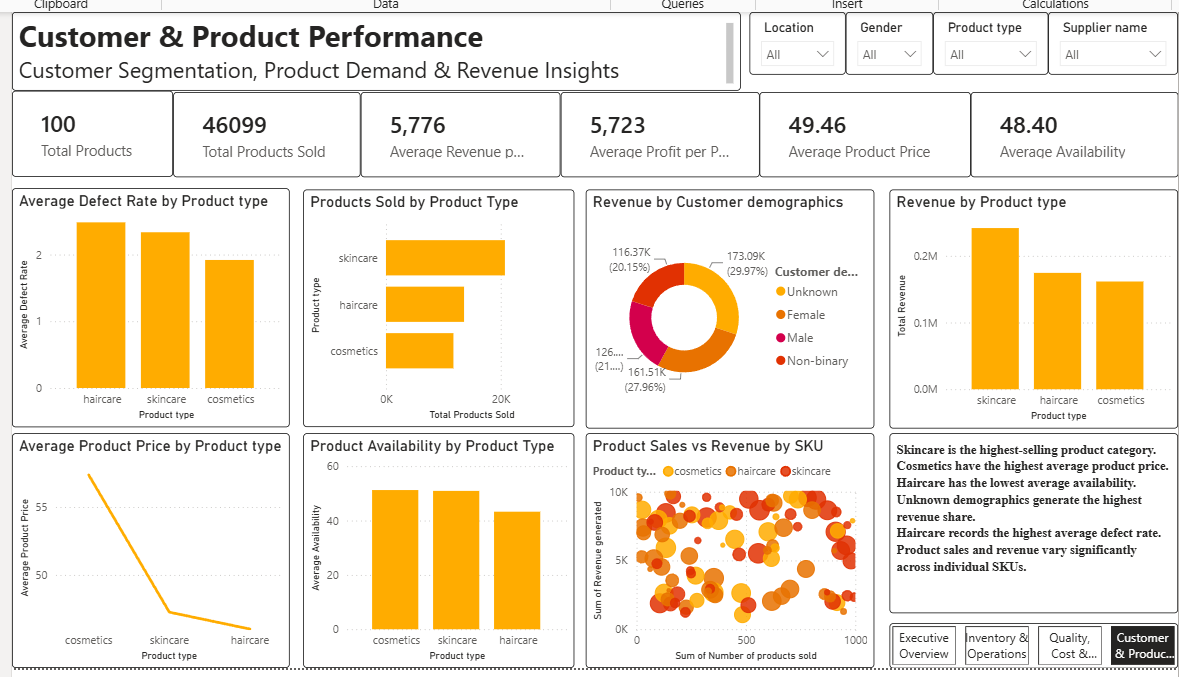

Layout of this report page (visuals, bound fields, positions):
{"tool":"powerbi","page":{"name":"Customer & Product Insights","canvas":[1280,720],"ordinal":3},"visuals":[{"type":"cardVisual","fields":{"Data":["Fact_supplychain.Total Products"]},"box":[0,86.4,177,94.7],"z":0},{"type":"cardVisual","fields":{"Data":["Fact_supplychain.Total Products Sold"]},"box":[177,87.8,205.8,93.3],"z":1000},{"type":"cardVisual","fields":{"Data":["Fact_supplychain.Average Revenue per Product"]},"box":[382.8,87.8,219.6,93.3],"z":2000},{"type":"cardVisual","fields":{"Data":["Fact_supplychain.Average Profit per Product"]},"box":[602.4,87.8,218.2,93.3],"z":3000},{"type":"cardVisual","fields":{"Data":["Fact_supplychain.Average Product Price"]},"box":[820.6,87.8,231.9,93.3],"z":4000},{"type":"cardVisual","fields":{"Data":["Fact_supplychain.Average Availability"]},"box":[1052.5,87.8,227.8,93.3],"z":5000},{"type":"slicer","fields":{"Values":["Fact_supplychain.Supplier name"]},"box":[1137.6,0,142.7,68.6],"z":6000},{"type":"slicer","fields":{"Values":["Fact_supplychain.Product type"]},"box":[1011.3,0,126.2,68.6],"z":7000},{"type":"slicer","fields":{"Values":["Fact_supplychain.Customer demographics"]},"box":[915.3,0,96.1,68.6],"z":8000},{"type":"slicer","fields":{"Values":["Fact_supplychain.Location"]},"box":[809.6,0,105.7,68.6],"z":9000},{"type":"clusteredColumnChart","fields":{"Category":["Fact_supplychain.Product type"],"Y":["Fact_supplychain.Average Defect Rate"]},"box":[0,193.5,304.6,262.1],"z":10000},{"type":"lineChart","fields":{"Category":["Fact_supplychain.Product type"],"Y":["Fact_supplychain.Average Product Price"]},"box":[0,462.4,304.6,258],"z":11000},{"type":"clusteredBarChart","title":"Products Sold by Product Type","fields":{"Category":["Fact_supplychain.Product type"],"Y":["Fact_supplychain.Total Products Sold"]},"box":[319.7,194.9,297.8,260.7],"z":12000},{"type":"clusteredColumnChart","title":"Product Availability by Product Type","fields":{"Category":["Fact_supplychain.Product type"],"Y":["Fact_supplychain.Average Availability"]},"box":[319.7,462.4,297.8,258],"z":13000},{"type":"donutChart","title":"Revenue by Customer demographics","fields":{"Category":["Fact_supplychain.Customer demographics"],"Y":["Fact_supplychain.Total Revenue"]},"box":[629.8,194.9,317,262.1],"z":14000},{"type":"scatterChart","title":"Product Sales vs Revenue by SKU","fields":{"Series":["Fact_supplychain.Product type"],"Category":["Fact_supplychain.SKU"],"X":["Sum(Fact_supplychain.Number of products sold)"],"Y":["Sum(Fact_supplychain.Revenue generated)"],"Size":["Sum(Fact_supplychain.Price)"]},"box":[629.8,462.4,317,258],"z":15000},{"type":"pageNavigator","box":[963.3,671,317,49.4],"z":16000},{"type":"textbox","box":[963.3,462.4,317,197.6],"z":16001},{"type":"textbox","box":[0,0,800,86.4],"z":16002},{"type":"clusteredColumnChart","title":"Revenue by Product type","fields":{"Category":["Fact_supplychain.Product type"],"Y":["Fact_supplychain.Total Revenue"]},"box":[963.3,194.9,317,262.1],"z":16003}]}

Visuals, with their boxes on the page's 1280x720 design canvas (x1, y1, x2, y2). These are canvas units, not pixel positions in the 1179x677 screenshot, which may show the page scaled, cropped or inside an application window:
cardVisual - Fact_supplychain.Total Products: 0, 86, 177, 181
cardVisual - Fact_supplychain.Total Products Sold: 177, 88, 383, 181
cardVisual - Fact_supplychain.Average Revenue per Product: 383, 88, 602, 181
cardVisual - Fact_supplychain.Average Profit per Product: 602, 88, 821, 181
cardVisual - Fact_supplychain.Average Product Price: 821, 88, 1052, 181
cardVisual - Fact_supplychain.Average Availability: 1052, 88, 1280, 181
slicer - Fact_supplychain.Supplier name: 1138, 0, 1280, 69
slicer - Fact_supplychain.Product type: 1011, 0, 1138, 69
slicer - Fact_supplychain.Customer demographics: 915, 0, 1011, 69
slicer - Fact_supplychain.Location: 810, 0, 915, 69
clusteredColumnChart - Fact_supplychain.Product type x Fact_supplychain.Average Defect Rate: 0, 194, 305, 456
lineChart - Fact_supplychain.Product type x Fact_supplychain.Average Product Price: 0, 462, 305, 720
"Products Sold by Product Type" clusteredBarChart: 320, 195, 618, 456
"Product Availability by Product Type" clusteredColumnChart: 320, 462, 618, 720
"Revenue by Customer demographics" donutChart: 630, 195, 947, 457
"Product Sales vs Revenue by SKU" scatterChart: 630, 462, 947, 720
pageNavigator: 963, 671, 1280, 720
textbox: 963, 462, 1280, 660
textbox: 0, 0, 800, 86
"Revenue by Product type" clusteredColumnChart: 963, 195, 1280, 457
